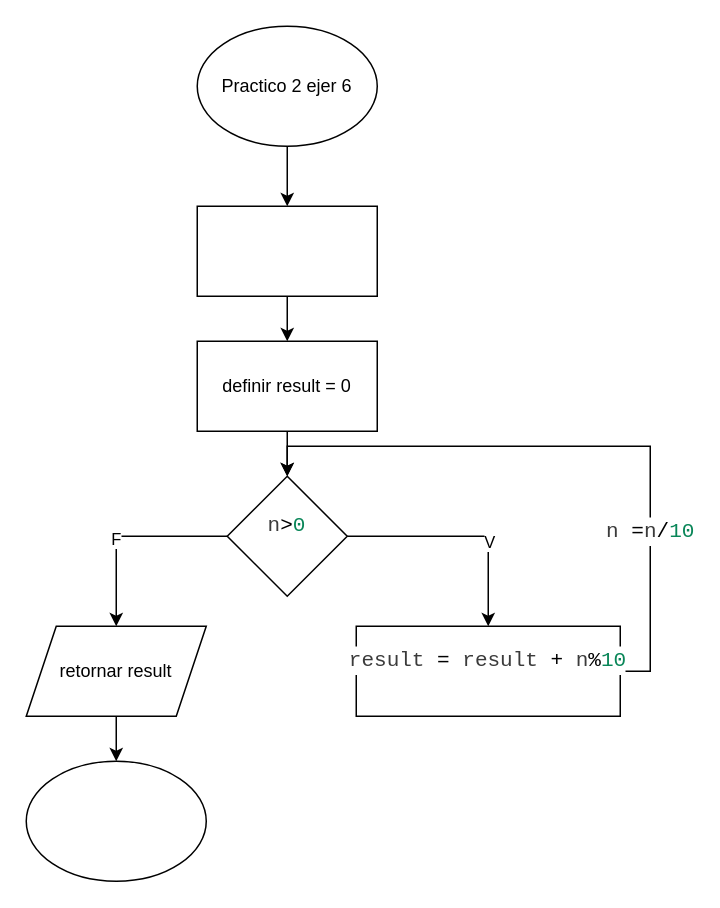
The diagram is 720 pixels wide and 908 high, and some of its shapes have lost their labels. Each missing label, with the centre of its shape:
"entrada n" goes at (x=286, y=250).
"FinAlgoritmo" goes at (x=115, y=820).
